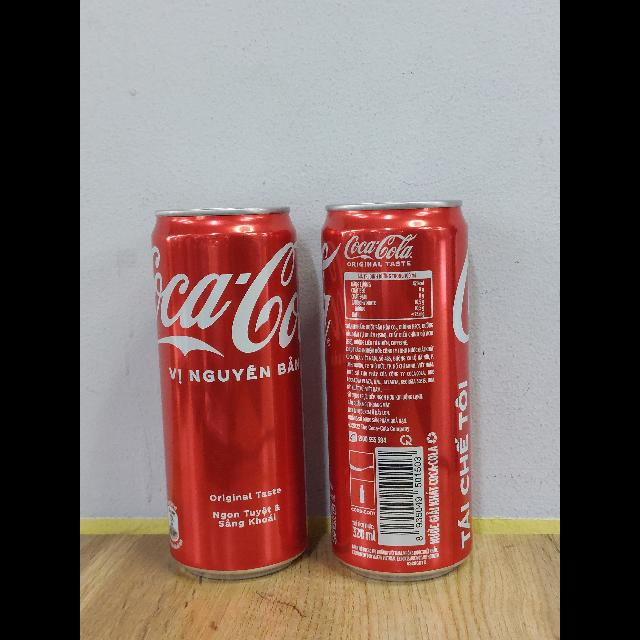coca_cola: (152, 208, 306, 574), (321, 203, 472, 574)
